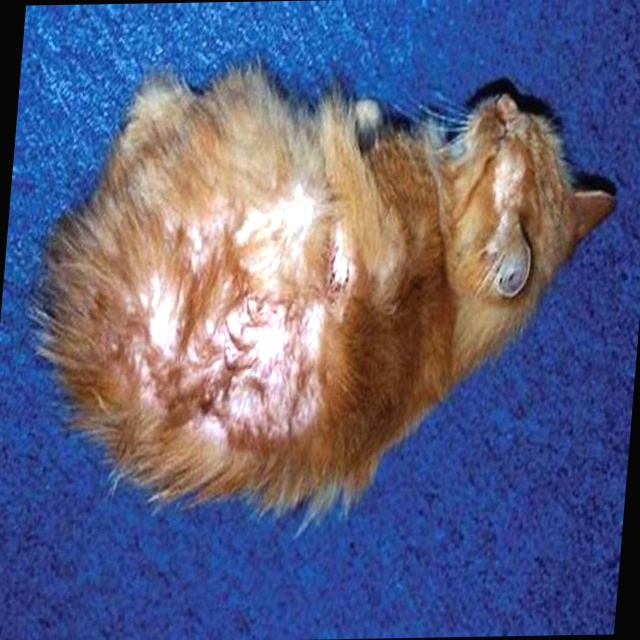hairloss: (139, 202, 326, 441)
